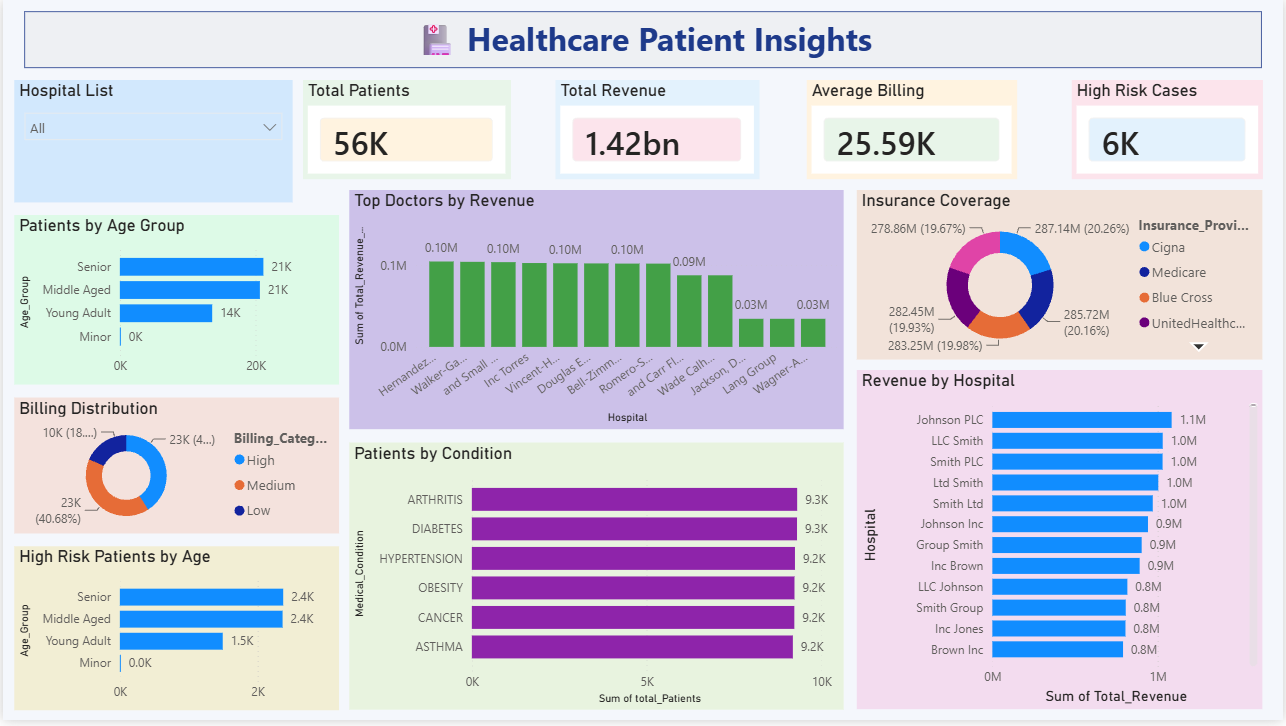

The page's visual inventory and layout, read from the dashboard file:
{"tool":"powerbi","page":{"name":"Patient Demographics","canvas":[1280,720],"ordinal":0},"visuals":[{"type":"textbox","box":[21.7,10.9,1237.9,57],"z":0},{"type":"cardVisual","title":"Total Patients","fields":{"Data":["Sum(gold_hospital_metrics.Total_Patients)"]},"box":[299.6,80.3,207.8,99.4],"z":1000},{"type":"cardVisual","title":"Total Revenue","fields":{"Data":["Sum(gold_hospital_metrics.Total_Revenue)"]},"box":[552,80.3,204,99.4],"z":2000},{"type":"cardVisual","title":"High Risk Cases","fields":{"Data":["Sum(gold_hospital_metrics.High_Risk_Cases)"]},"box":[1068.3,80.3,191.2,99.4],"z":3000},{"type":"cardVisual","title":"Average Billing","fields":{"Data":["Avg(gold_hospital_metrics.Avg_Billing)"]},"box":[804.4,80.3,210.3,99.4],"z":4000},{"type":"clusteredBarChart","title":"Revenue by Hospital","fields":{"Category":["gold_hospital_metrics.Hospital"],"Y":["Sum(gold_hospital_metrics.Total_Revenue)"]},"box":[853.8,370.6,405.9,339.3],"z":5000},{"type":"clusteredColumnChart","title":"Top Doctors by Revenue","fields":{"Category":["gold_doctor_performance.Hospital"],"Y":["Sum(gold_doctor_performance.Total_Revenue_Generated)"]},"box":[346.1,190,494.1,238.9],"z":6000},{"type":"donutChart","title":"Insurance Coverage","fields":{"Category":["gold_insurance_analysis.Insurance_Provider"],"Y":["Sum(gold_insurance_analysis.Total_Billed)"]},"box":[853.8,190,405.9,169.7],"z":7000},{"type":"barChart","title":"Patients by Condition","fields":{"Category":["gold_medical_condition_summary.Medical_Condition"],"Y":["Sum(gold_medical_condition_summary.total_Patients)"]},"box":[346.1,442.5,494.1,267.4],"z":8000},{"type":"slicer","title":"Hospital List","fields":{"Values":["gold_hospital_metrics.Hospital"]},"box":[10.9,80.1,278.3,122.2],"z":9000},{"type":"barChart","title":"Patients by Age Group","fields":{"Category":["gold_demographics_summary.Age_Group"],"Y":["Sum(gold_demographics_summary.Total_Patients)"]},"box":[10.9,214.5,324.4,169.7],"z":10000},{"type":"barChart","title":"High Risk Patients by Age","fields":{"Category":["gold_demographics_summary.Age_Group"],"Y":["Sum(gold_demographics_summary.High_Risk_Patients)"]},"box":[10.9,545.7,324.4,164.2],"z":11000},{"type":"donutChart","title":"Billing Distribution","fields":{"Category":["gold_demographics_summary.Billing_Category"],"Y":["Sum(gold_demographics_summary.Total_Patients)"]},"box":[10.9,397.7,324.4,135.7],"z":12000}]}

Visuals, with their boxes in screenshot pixels (x1, y1, x2, y2), scaled from the page's 1280x720 canvas onto the 1286x726 screenshot:
textbox: [22,11,1266,68]
"Total Patients" cardVisual: [301,81,510,181]
"Total Revenue" cardVisual: [555,81,760,181]
"High Risk Cases" cardVisual: [1073,81,1265,181]
"Average Billing" cardVisual: [808,81,1019,181]
"Revenue by Hospital" clusteredBarChart: [858,374,1266,716]
"Top Doctors by Revenue" clusteredColumnChart: [348,192,844,432]
"Insurance Coverage" donutChart: [858,192,1266,363]
"Patients by Condition" barChart: [348,446,844,716]
"Hospital List" slicer: [11,81,291,204]
"Patients by Age Group" barChart: [11,216,337,387]
"High Risk Patients by Age" barChart: [11,550,337,716]
"Billing Distribution" donutChart: [11,401,337,538]
